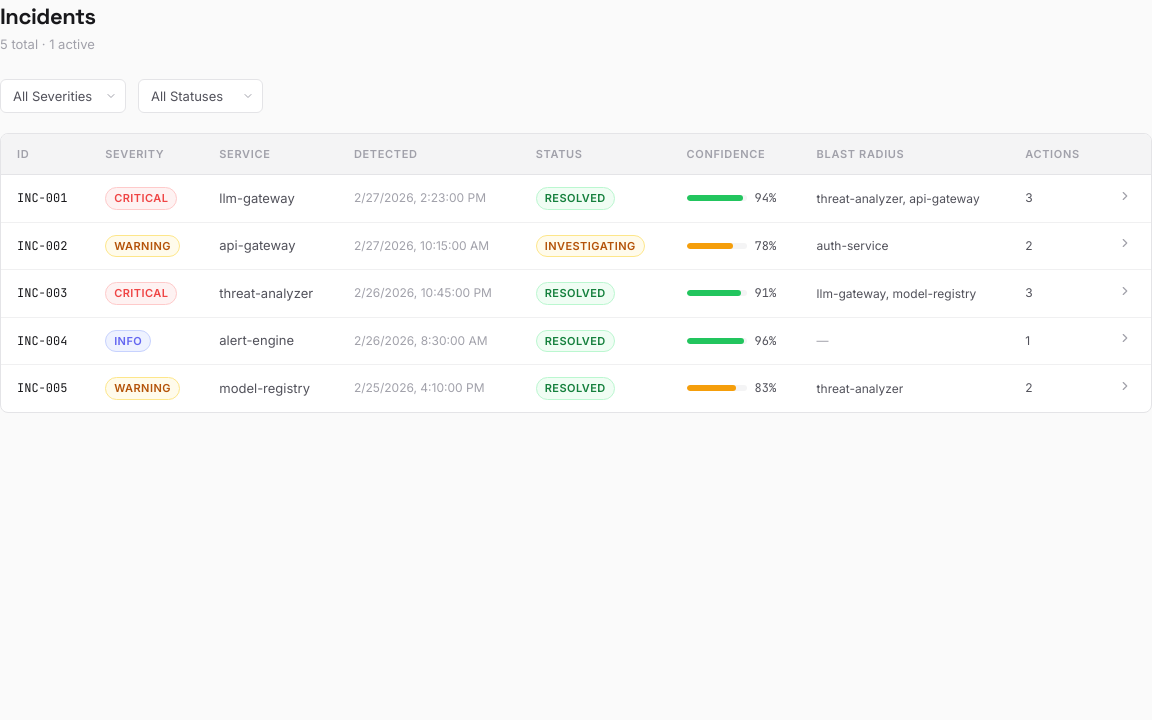
Scenario: Incidents Page › drawer close button works
Click the row with id "incident-row-INC-001". click: (576, 198)
box: 1,174 -> 1151,222
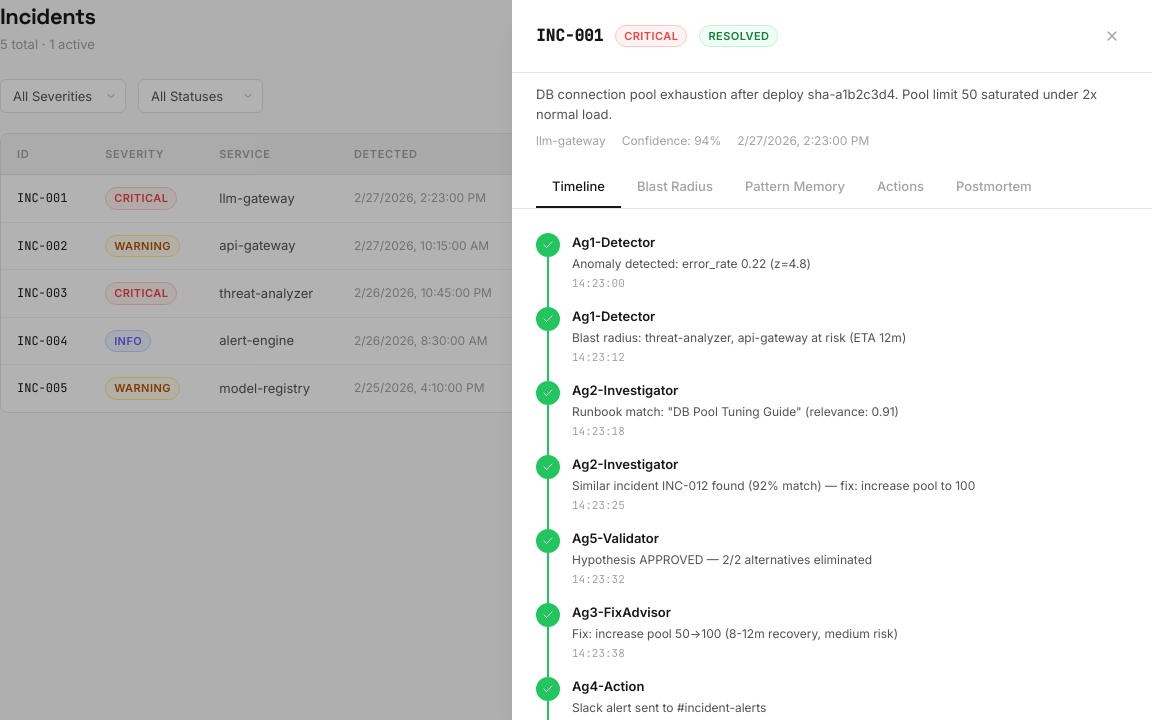
Expected: the element with id "incident-drawer" is shown, 512,0 -> 1151,719
Note: Click close button
Click the button with class "drawer-close". click: (1112, 36)
box: 1096,20 -> 1128,52
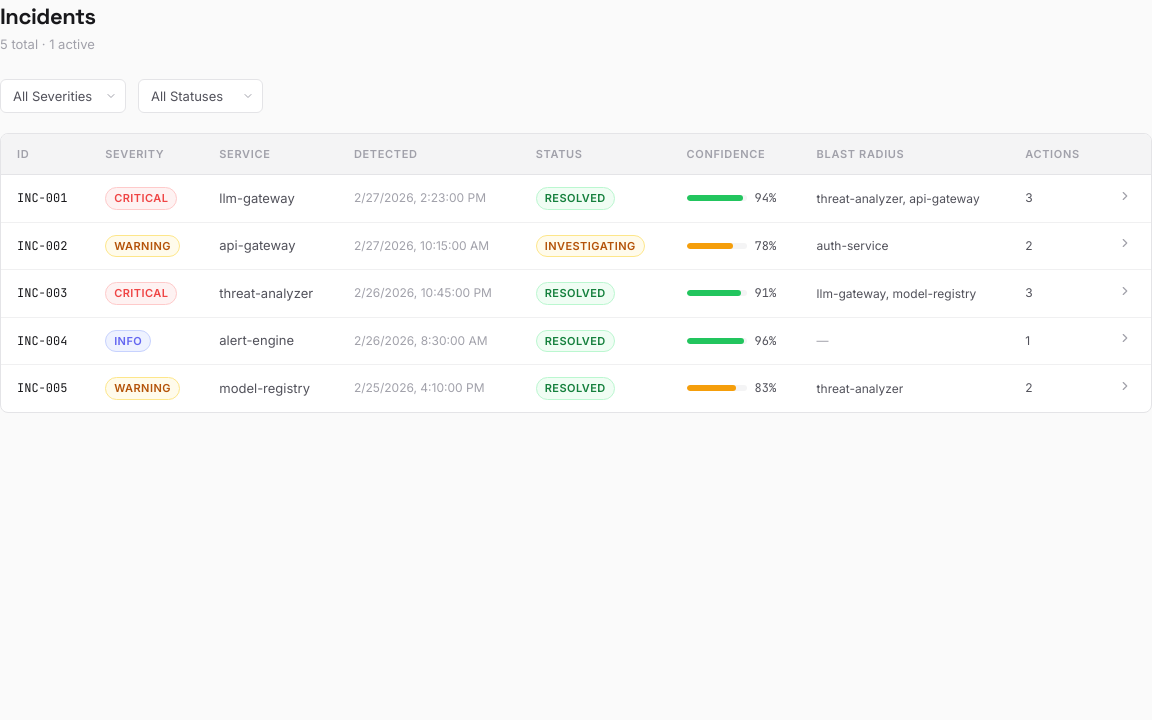
Expected: the element with id "incident-drawer" is gone
